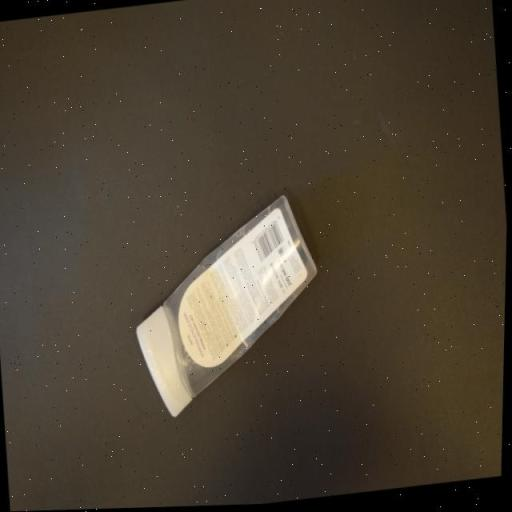plastic: (126, 197, 328, 423)
